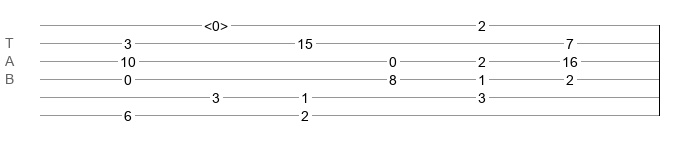0: (124, 72, 132, 82), (389, 54, 397, 64)
1: (301, 90, 309, 100), (478, 72, 486, 82)
10: (120, 54, 136, 64)
15: (297, 36, 313, 46)
16: (562, 54, 578, 64)
2: (301, 108, 309, 118), (478, 18, 486, 28), (478, 54, 486, 64), (566, 72, 574, 82)
3: (124, 36, 132, 46), (212, 90, 220, 100), (478, 90, 486, 100)
6: (124, 108, 132, 118)
7: (566, 36, 574, 46)
8: (389, 72, 397, 82)
harmonic: (204, 18, 228, 28)
